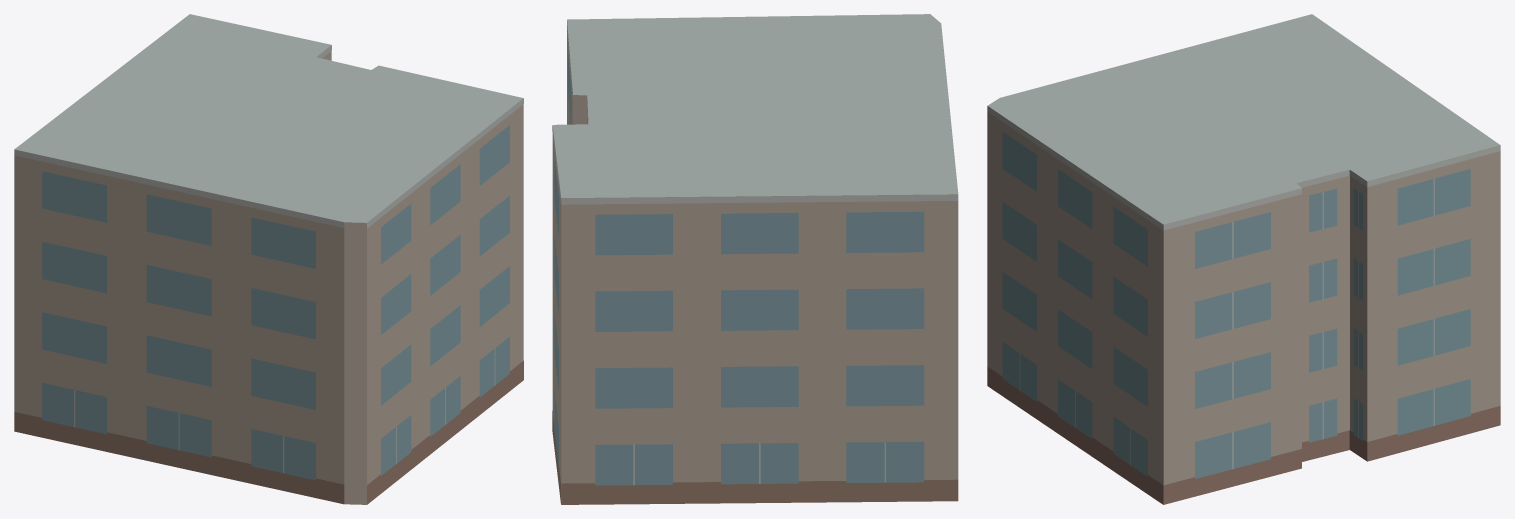
File: survey-upis-32913244.glb
3 renders of one model, left to right at view 1: azimuth 30°, elevation 25°; view 2: azimuth 150°, elevation 25°; view 3: azimuth 270°, elevation 25°, orthographic. The views are drawn at different scales.
Parts seen in each view (by area): view 1: survey-upis-32913244.tmp; view 2: survey-upis-32913244.tmp; view 3: survey-upis-32913244.tmp.
Part boxes in pixels (box(x1,y1,x2,y2)): survey-upis-32913244.tmp: box(14, 14, 523, 504); survey-upis-32913244.tmp: box(552, 14, 958, 504); survey-upis-32913244.tmp: box(987, 14, 1500, 504).
Size of the model in its own units: 18.72 by 11.6 by 19.26.
